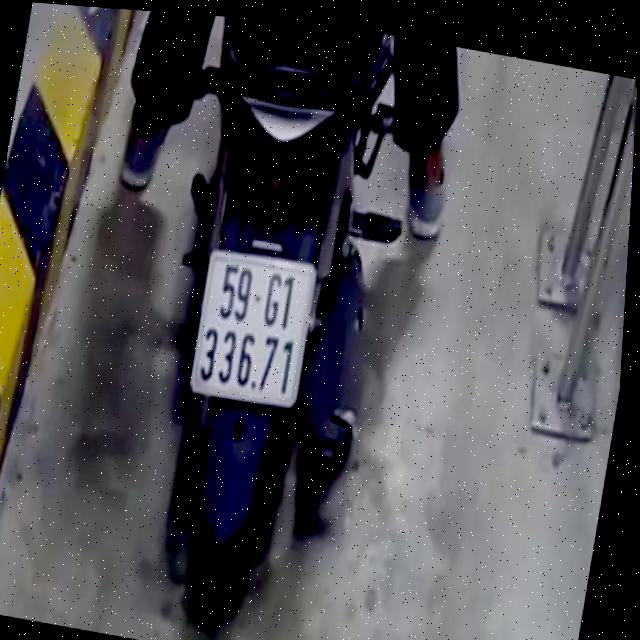motorcycle: (105, 10, 441, 630)
plate: (182, 242, 319, 411)
